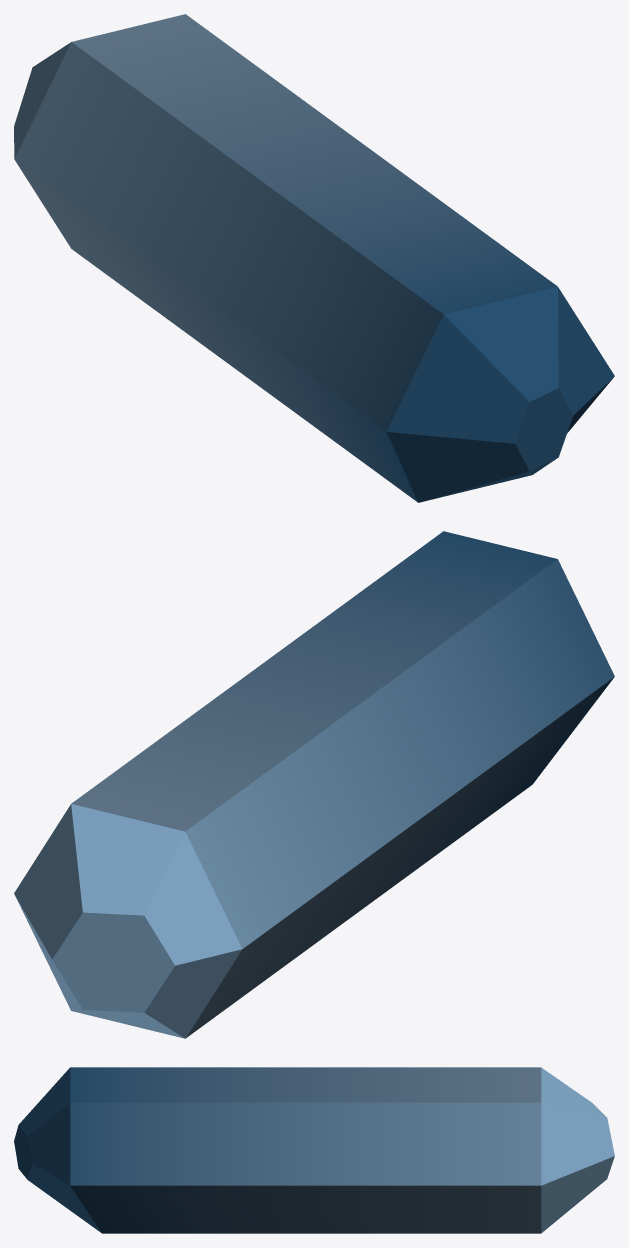
File: IceCrystal.010.glb
3 views of the same model, one above another, from view 1: azimuth 30°, elevation 25°; view 2: azimuth 150°, elevation 25°; view 3: azimuth 270°, elevation 25° (orthographic). The views are drawn at different scales.
Visible parts, largest first — view 1: IceCrystal.010; view 2: IceCrystal.010; view 3: IceCrystal.010.
Part boxes in pixels (box(x1,y1,x2,y2)): IceCrystal.010: box(14, 14, 614, 502); IceCrystal.010: box(14, 531, 614, 1038); IceCrystal.010: box(14, 1067, 614, 1233).
Size of the model in its own units: 148 by 128 by 533.
